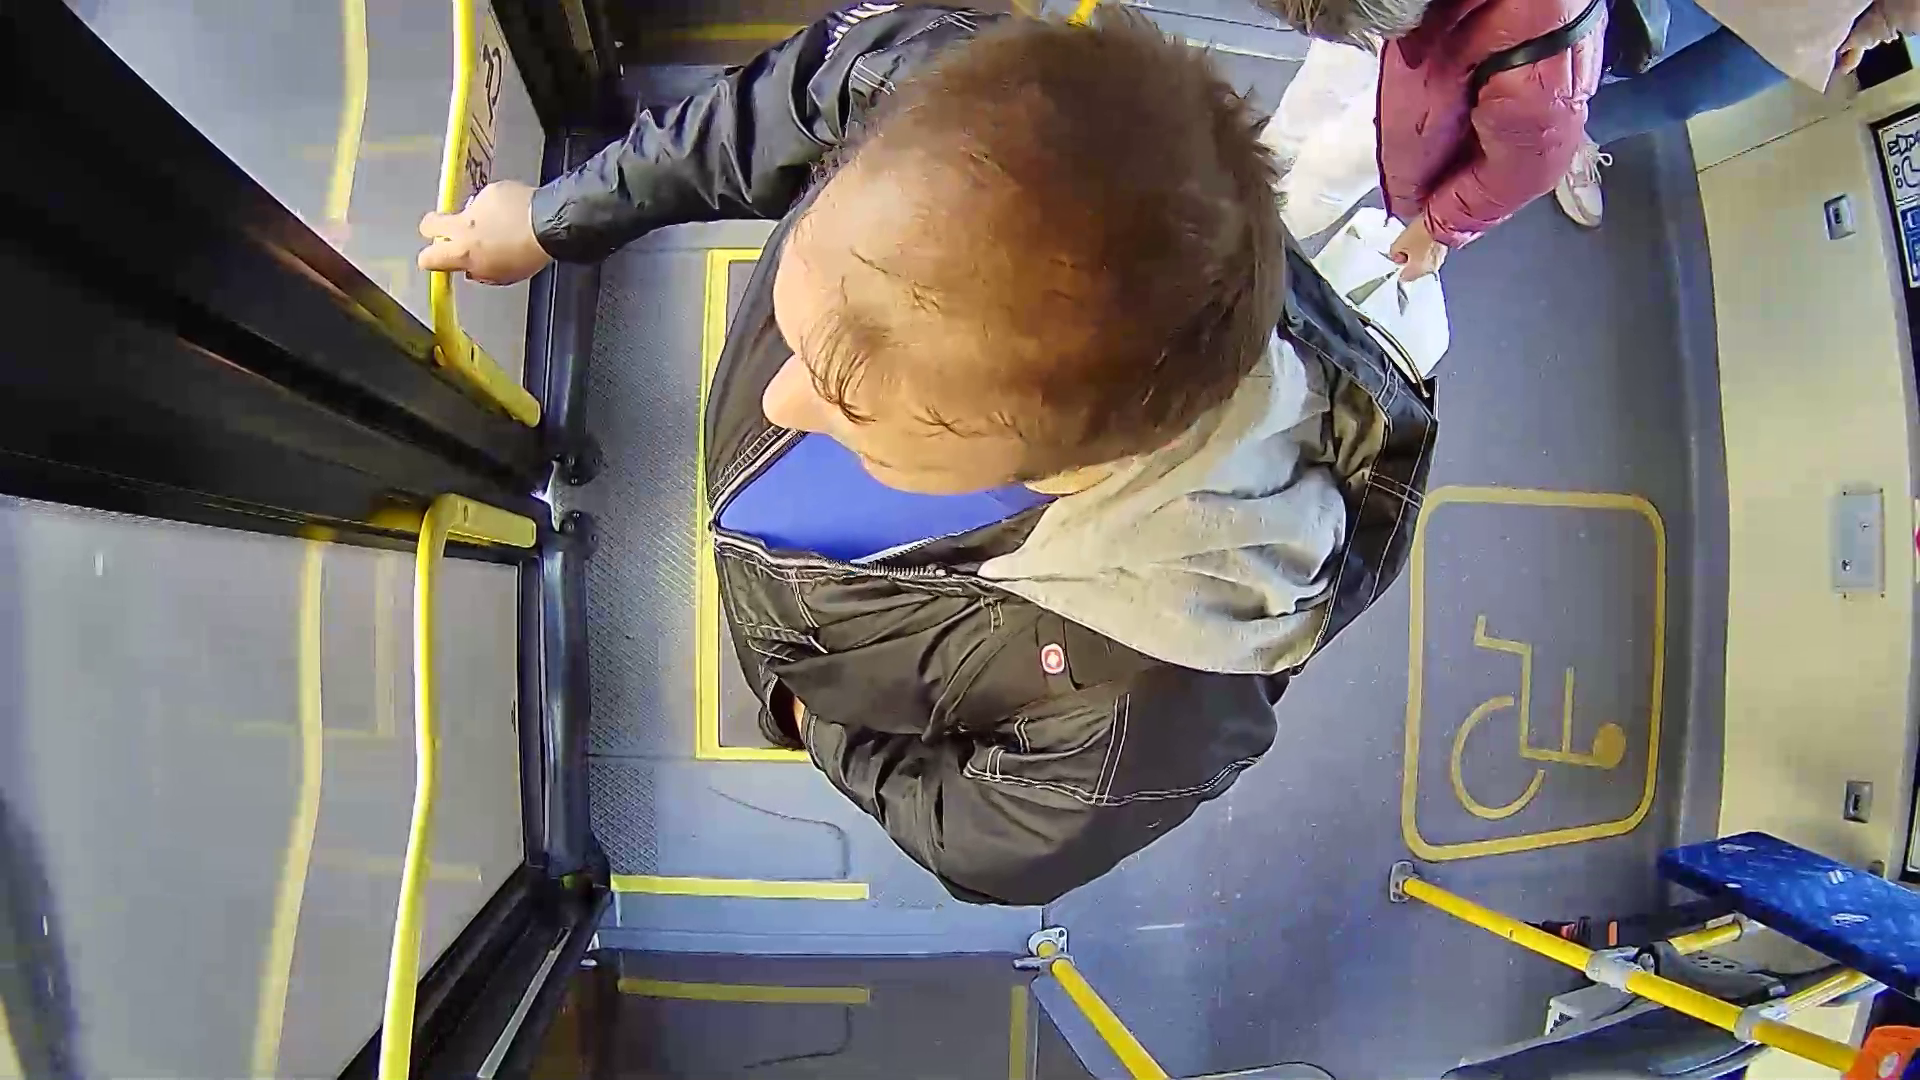person: (564, 6, 1536, 945)
